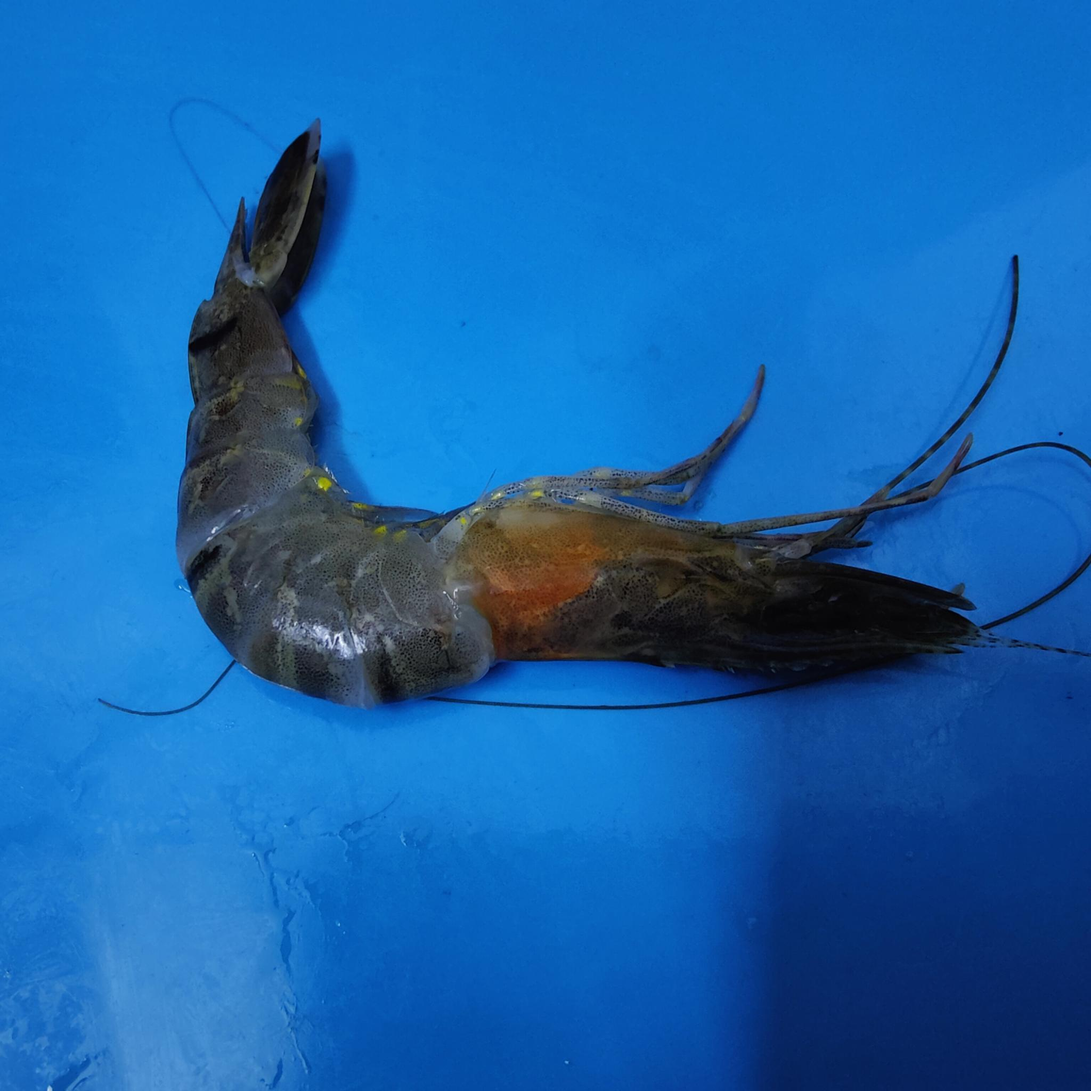whitespot: (426, 511, 797, 663)
